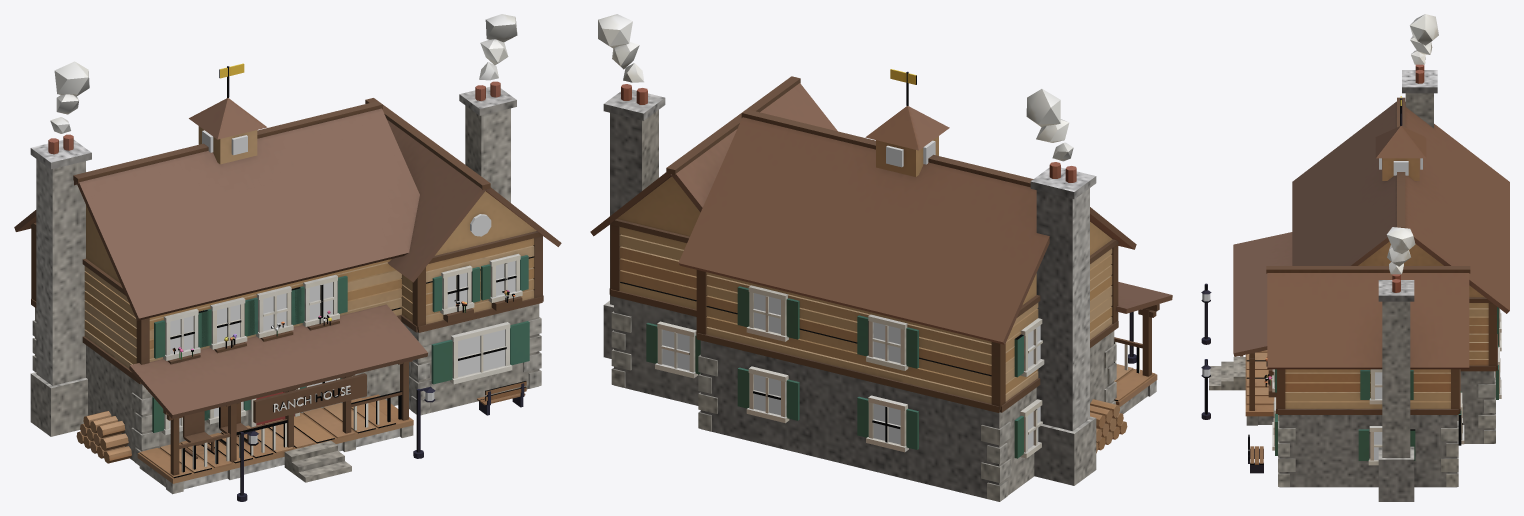
Rendered from home_house_3.fbx.
The picture shows the model from 3 angles, left to right: view 1: azimuth 30°, elevation 25°; view 2: azimuth 150°, elevation 25°; view 3: azimuth 270°, elevation 25°; orthographic projection. The views are drawn at different scales.
Parts seen in each view (by area): view 1: home_house_3_body, home_house_3_body_glow; view 2: home_house_3_body, home_house_3_body_glow; view 3: home_house_3_body, home_house_3_body_glow.
Boxes of the visible parts, x1,y1,x2,y2 form: home_house_3_body: (14,14,561,501); home_house_3_body_glow: (169,130,515,427); home_house_3_body: (590,14,1172,501); home_house_3_body_glow: (662,140,1040,449); home_house_3_body: (1201,14,1509,501); home_house_3_body_glow: (1374,158,1422,459).
Size of the model in its own units: 5001 by 3667 by 3298.
Materials: 2 (1 with a texture image).
